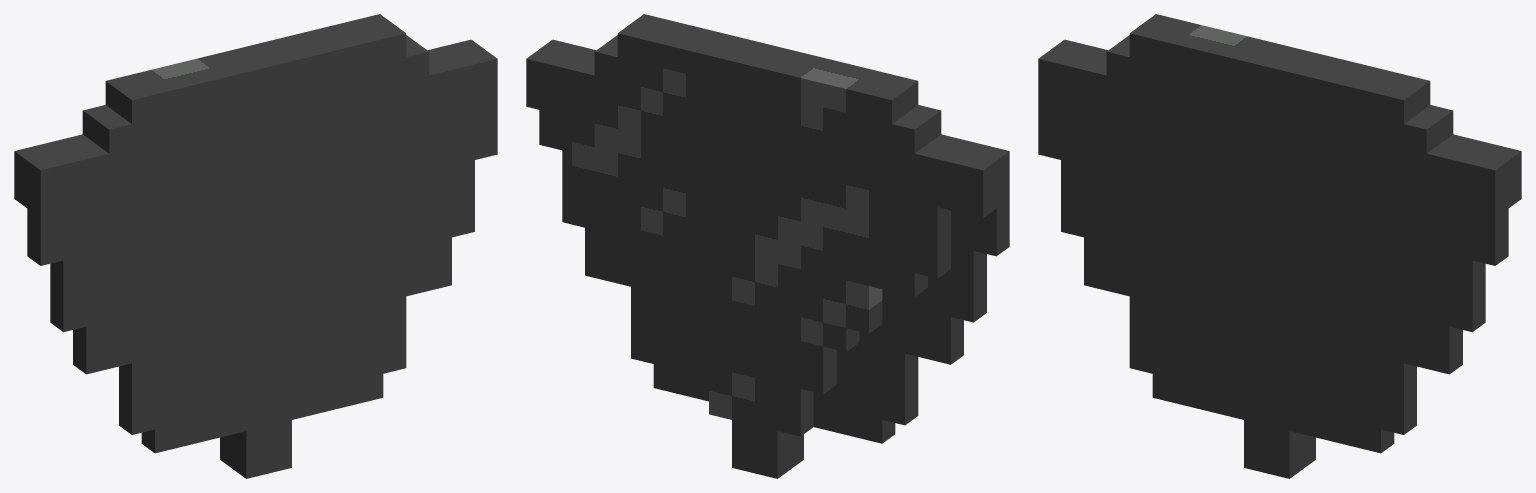
File: Cape.fbx
3 renders of one model, left to right at view 1: azimuth 30°, elevation 25°; view 2: azimuth 150°, elevation 25°; view 3: azimuth 330°, elevation 25°, orthographic.
Parts seen in each view (by area): view 1: Cape.001; view 2: Cape.001; view 3: Cape.001.
Part boxes in pixels (<box>): Cape.001: <box>14,14,497,478</box>; Cape.001: <box>526,14,1009,478</box>; Cape.001: <box>1038,14,1521,478</box>.
Size of the model in its own units: 20 by 17 by 2.
Materials: 1 (1 with a texture image).
